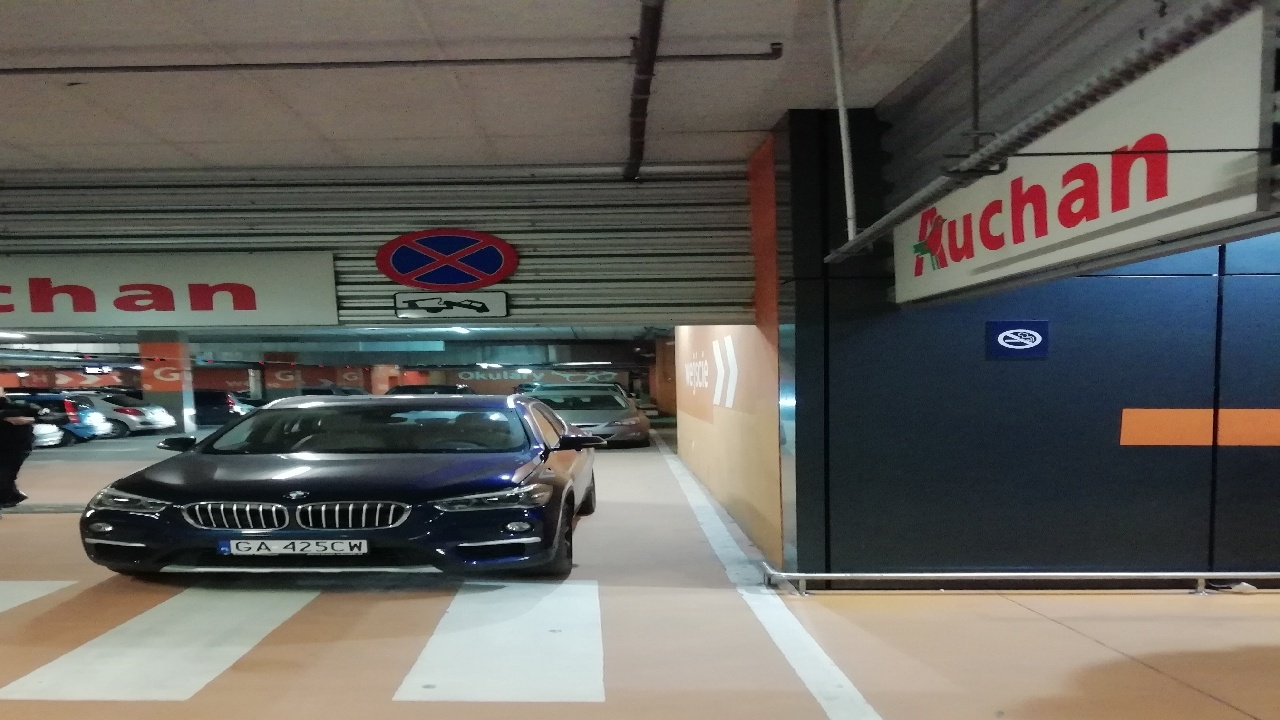B36: (375, 228, 519, 292)
